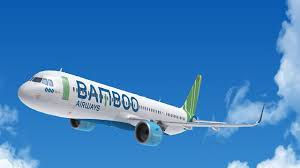maybay_dansu: (15, 59, 269, 141)
